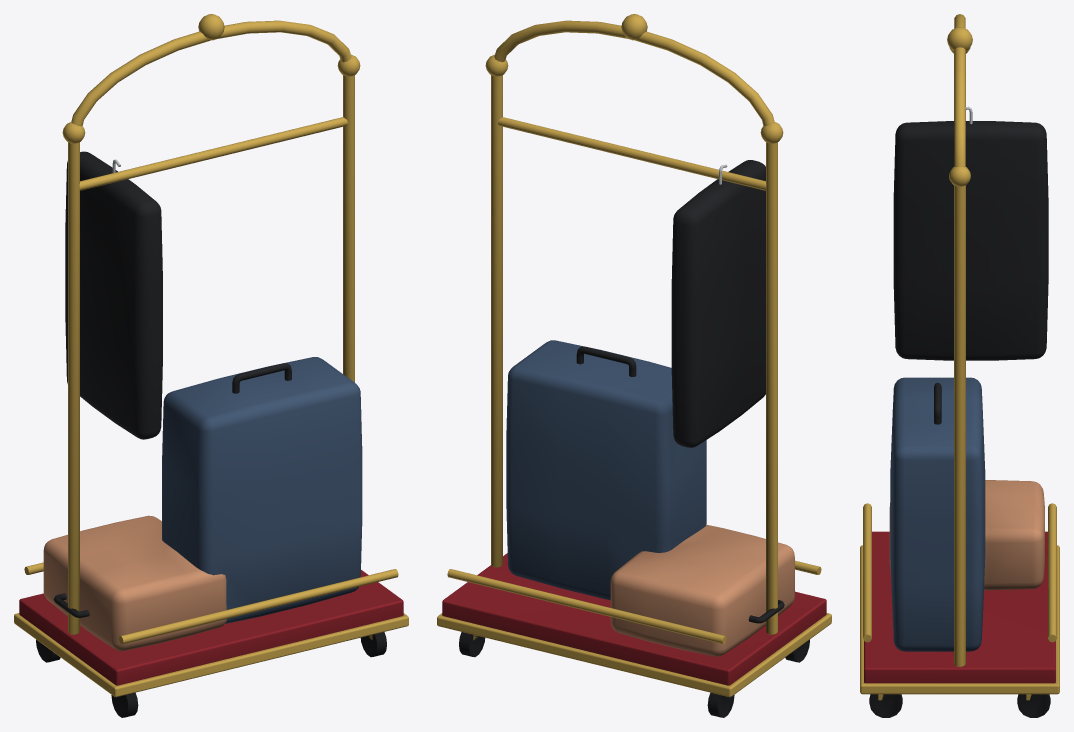
Rendered from luggageTrolley.glb.
3 renders of one model, left to right at view 1: azimuth 30°, elevation 25°; view 2: azimuth 150°, elevation 25°; view 3: azimuth 270°, elevation 25°, orthographic. The views are drawn at different scales.
Parts seen in each view (by area): view 1: trolley; view 2: trolley; view 3: trolley.
Part boxes in pixels (x1,y1,x2,y2): trolley: (14,14,408,717); trolley: (437,14,831,717); trolley: (860,14,1059,717).
Size of the model in its own units: 0.9 by 1.87 by 0.54.
